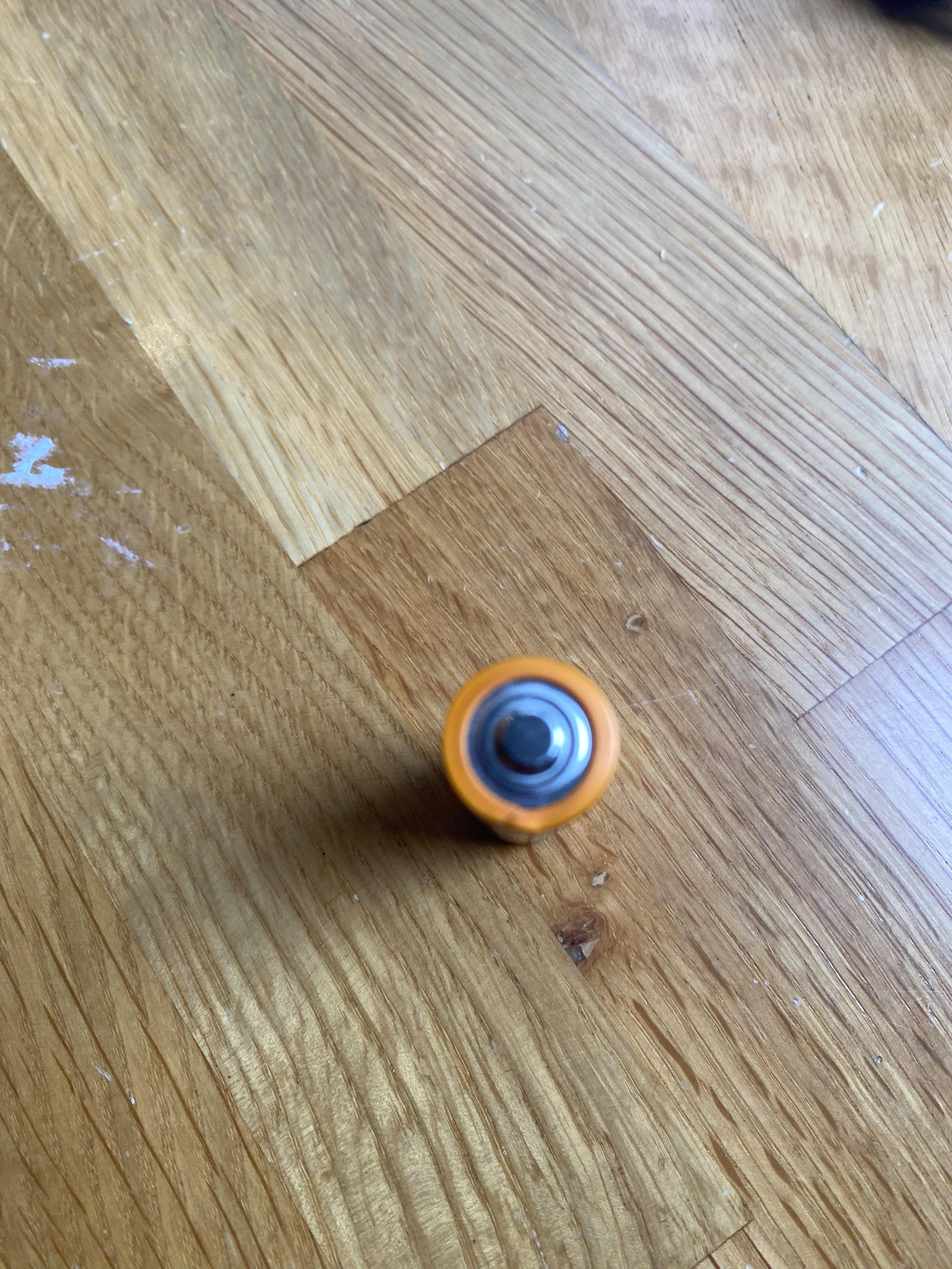AA: (439, 653, 621, 844)
